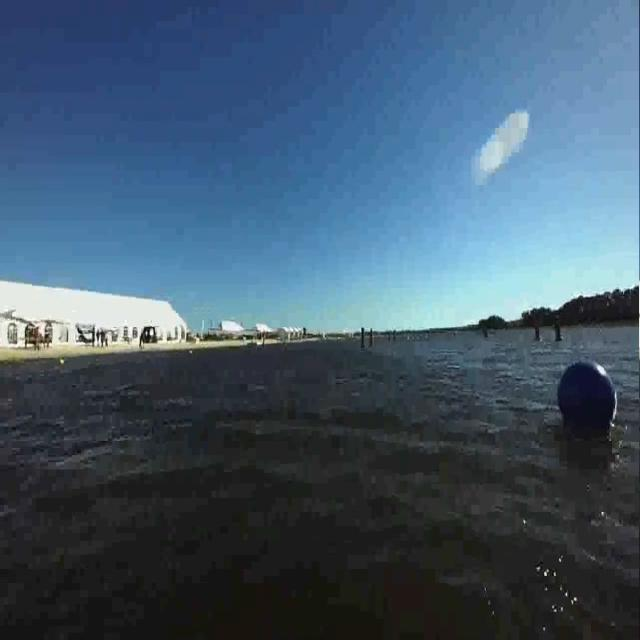black-buoy: (557, 354, 620, 435)
green-column-buoy: (554, 315, 564, 342)
red-column-buoy: (367, 328, 374, 348)
